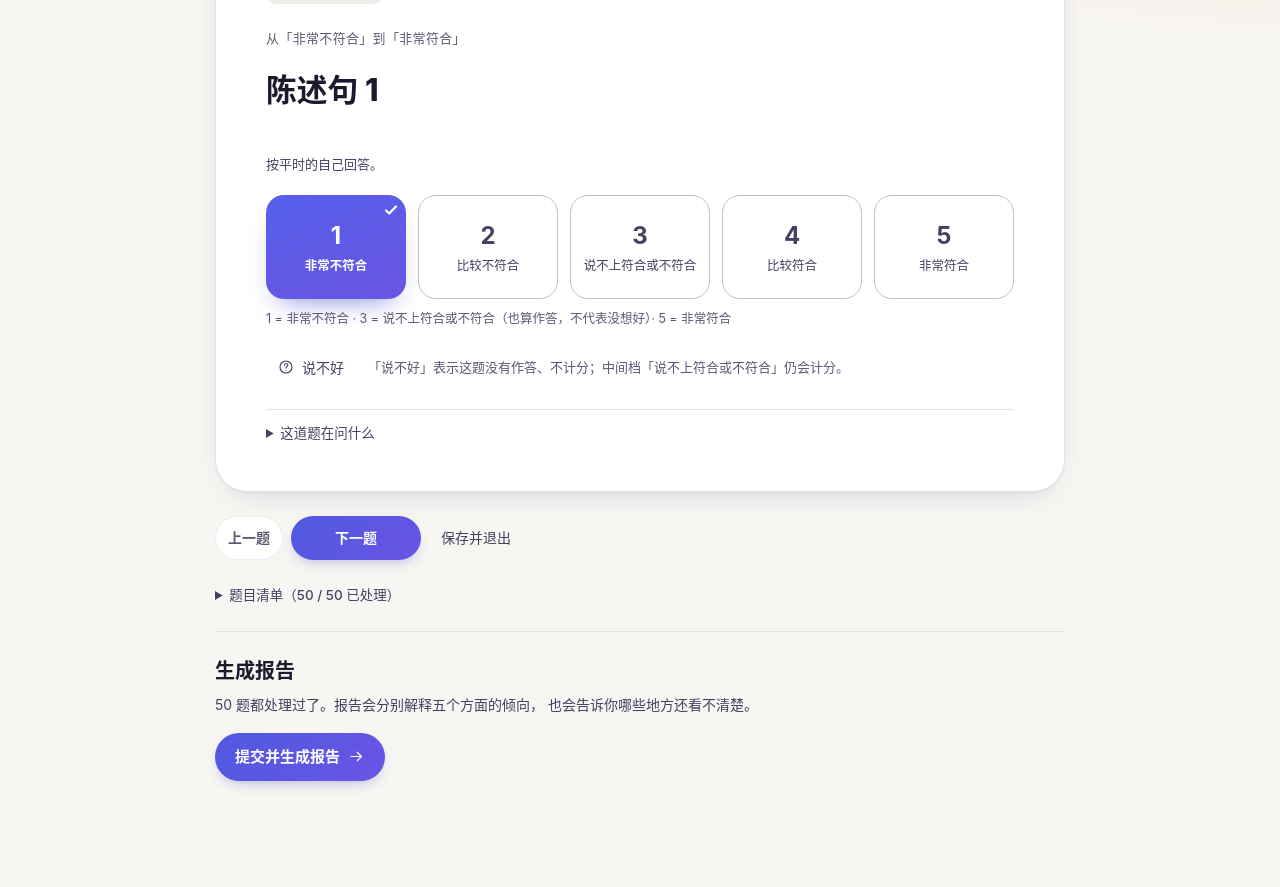
Test: 大五答题页 › 服务端说还缺题时回到那一题，而不是只显示"还差 N 题"
(page scrolled)
Click the button "提交并生成报告" at (300, 757), box [215, 733, 385, 781]
(page scrolled)
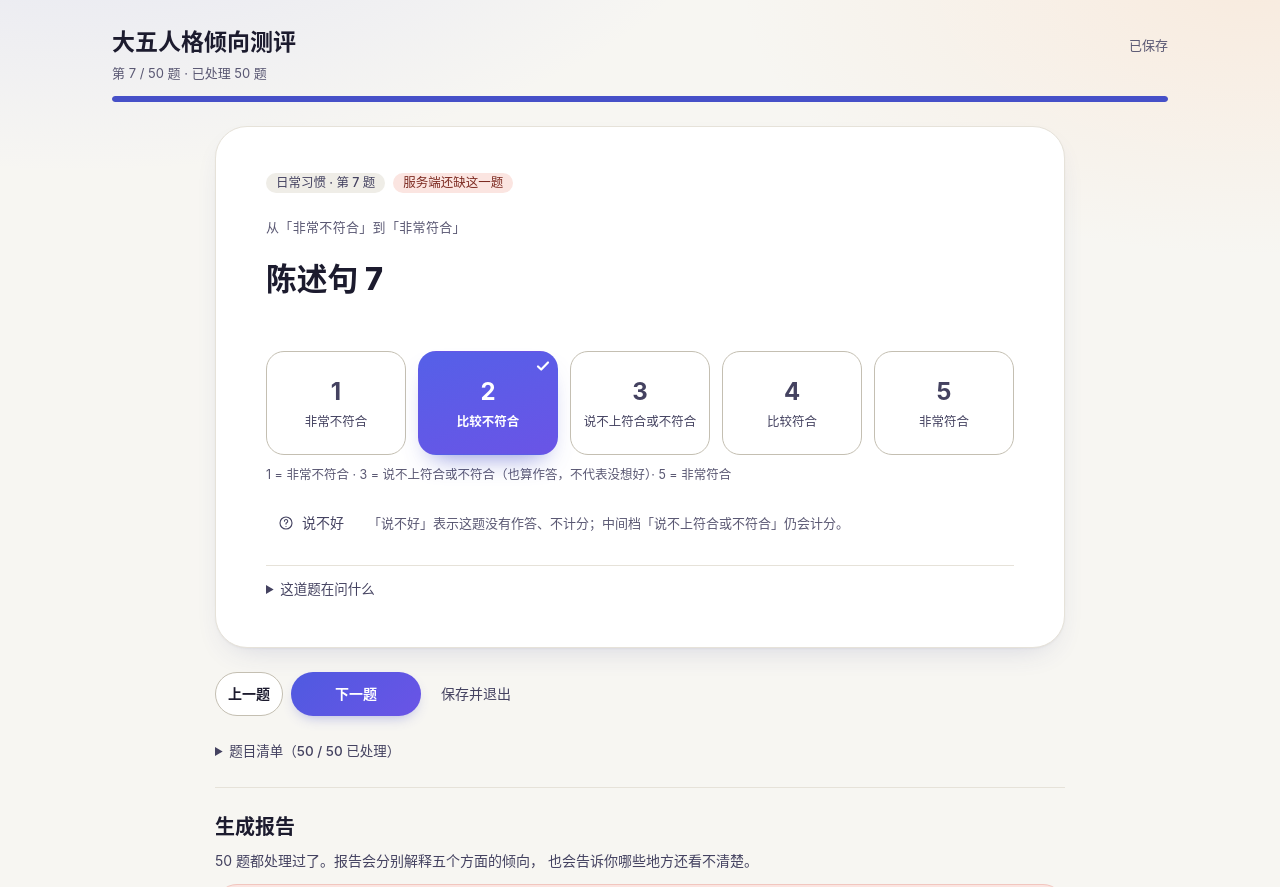
Expected: the text "说不上" is not shown
Result: the text "服务端还缺这一题" is shown at [393, 173, 513, 193]
